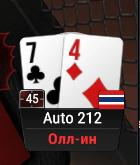4d: (63, 32, 121, 111)
7c: (19, 35, 63, 107)
